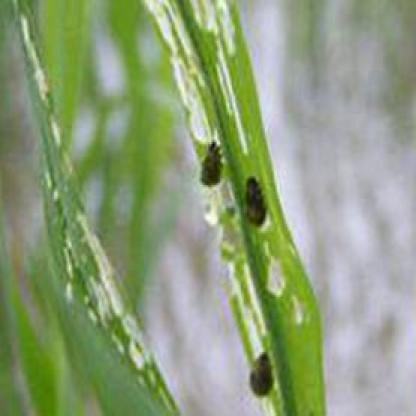rice-bug: (246, 346, 277, 401), (194, 134, 224, 188), (244, 172, 270, 228)
